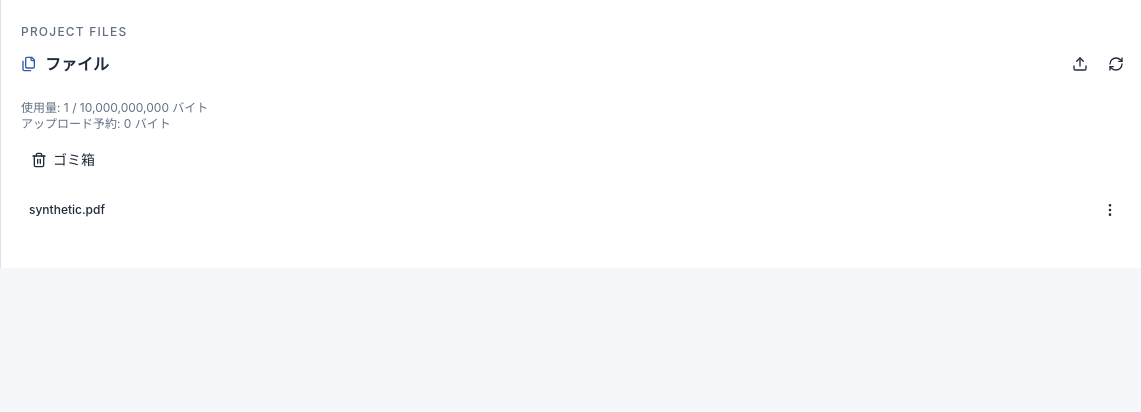
Scenario: file menu opens Jobs only after conversion acknowledgment and preserves download/trash actions
Later steps or results of the test are not shown.
Click the button named "ファイル操作: synthetic.pdf".
click(1110, 210)  # box [1096,196,1124,224]
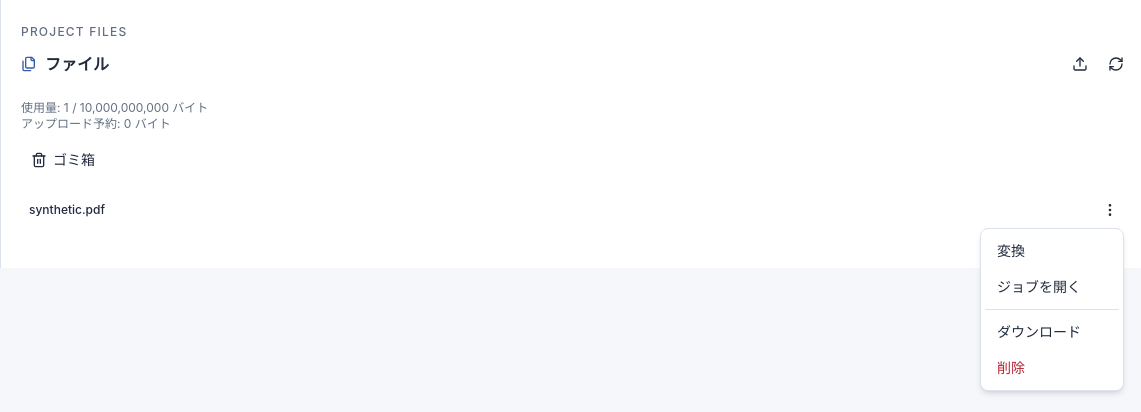
Check: the menu item "ダウンロード" is shown, box [997,323,1081,340]
Check: the menu item "削除" is shown, box [997,359,1025,376]
Check: the menu item "変換" is shown, box [997,242,1025,259]
